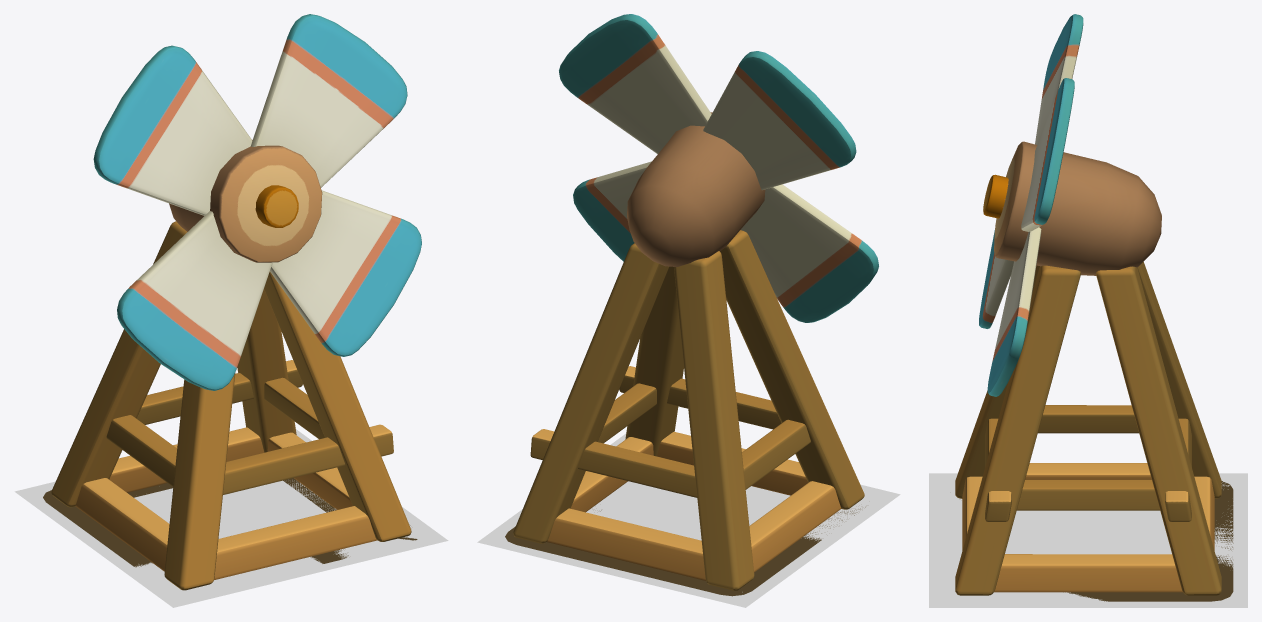
Rendered from VK_PirWindmill.fbx.
The picture shows the model from 3 angles, left to right: view 1: azimuth 30°, elevation 25°; view 2: azimuth 150°, elevation 25°; view 3: azimuth 270°, elevation 25°; orthographic projection. The views are drawn at different scales.
Parts seen in each view (by area): view 1: polySurface8, polySurface18, PirWindmill_Grid_Large, PirWindmill_Grid, Shadow; view 2: polySurface18, polySurface8, PirWindmill_Grid_Large, Shadow, PirWindmill_Grid; view 3: polySurface18, polySurface8, PirWindmill_Grid_Large, PirWindmill_Grid, Shadow.
Boxes of the visible parts, x1,y1,x2,y2 form: polySurface8: [93, 14, 421, 390]; polySurface18: [51, 221, 411, 590]; PirWindmill_Grid_Large: [14, 429, 448, 607]; PirWindmill_Grid: [138, 482, 319, 531]; Shadow: [43, 478, 417, 567]; polySurface18: [513, 230, 864, 590]; polySurface8: [559, 14, 878, 322]; PirWindmill_Grid_Large: [477, 433, 900, 607]; Shadow: [505, 507, 865, 596]; PirWindmill_Grid: [602, 485, 775, 540]; polySurface18: [955, 262, 1221, 595]; polySurface8: [979, 14, 1161, 396]; PirWindmill_Grid_Large: [929, 473, 1247, 607]; PirWindmill_Grid: [1014, 510, 1168, 554]; Shadow: [1067, 481, 1233, 601].
Size of the model in its own units: 2.22 by 3.41 by 2.
